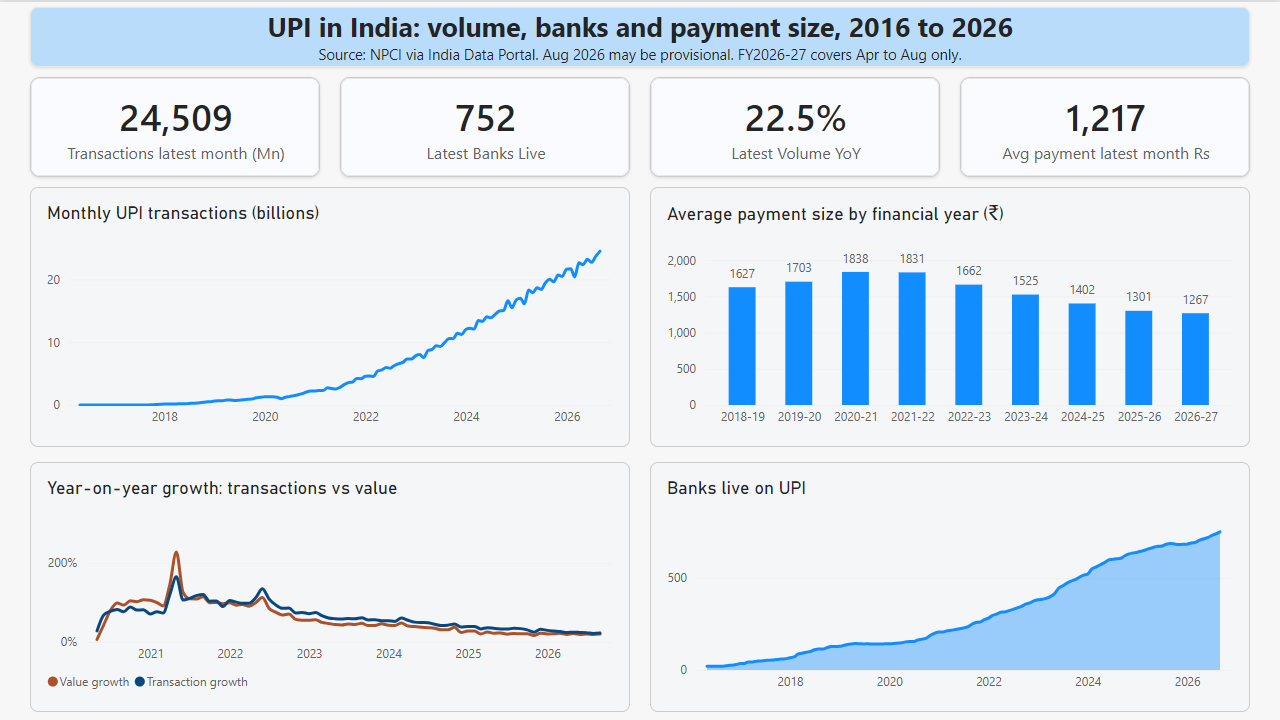

The dashboard page shown, as its layout file describes it:
{"tool":"powerbi","page":{"name":"Page 1","canvas":[1280,720],"ordinal":0},"visuals":[{"type":"cardVisual","fields":{"Data":["UPI.Transactions latest month (Mn)"]},"box":[30,75,290,100],"z":0},{"type":"cardVisual","fields":{"Data":["UPI.Latest Banks Live"]},"box":[340,75,290,100],"z":1000},{"type":"cardVisual","fields":{"Data":["UPI.Latest Volume YoY"]},"box":[650,75,290,100],"z":2000},{"type":"cardVisual","fields":{"Data":["UPI.Avg payment latest month Rs"]},"box":[960,75,290,100],"z":3000},{"type":"lineChart","title":"Monthly UPI transactions (billions)","fields":{"Category":["UPI.Date"],"Y":["UPI.Volume (Bn)"]},"box":[30,185,600,260],"z":4000},{"type":"clusteredColumnChart","title":"Average payment size by financial year (₹)","fields":{"Category":["UPI.FY"],"Y":["UPI.Avg Ticket (Rs)"]},"box":[650,185,600,260],"z":5000},{"type":"lineChart","title":"Year-on-year growth: transactions vs value","fields":{"Category":["UPI.Date"],"Y":["Max(UPI.Value_YoY_Pct)","Max(UPI.Volume_YoY_Pct)"]},"box":[30,460,600,250],"z":6000},{"type":"areaChart","title":"Banks live on UPI","fields":{"Category":["UPI.Date"],"Y":["Max(UPI.Banks_Live)"]},"box":[650,460,600,250],"z":7000},{"type":"textbox","box":[30,5,1220,60],"z":8000}]}

Visuals, with their boxes in screenshot pixels (x1, y1, x2, y2), scaled from the page's 1280x720 canvas onto the 1280x720 screenshot:
cardVisual - UPI.Transactions latest month (Mn): 30:75:320:175
cardVisual - UPI.Latest Banks Live: 340:75:630:175
cardVisual - UPI.Latest Volume YoY: 650:75:940:175
cardVisual - UPI.Avg payment latest month Rs: 960:75:1250:175
"Monthly UPI transactions (billions)" lineChart: 30:185:630:445
"Average payment size by financial year (₹)" clusteredColumnChart: 650:185:1250:445
"Year-on-year growth: transactions vs value" lineChart: 30:460:630:710
"Banks live on UPI" areaChart: 650:460:1250:710
textbox: 30:5:1250:65
